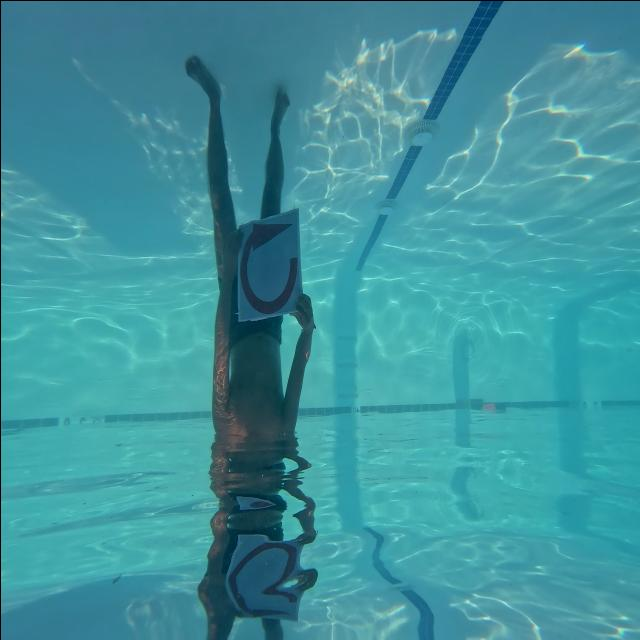red_side: (230, 209, 304, 317)
